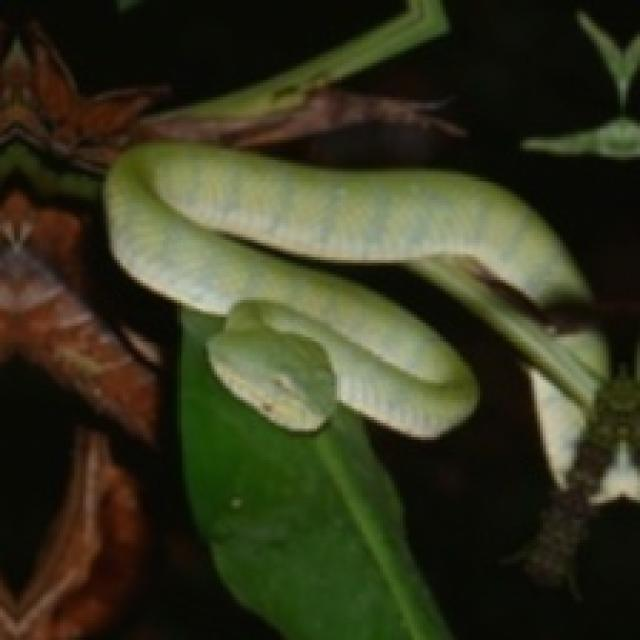north ph temple pitviper: (106, 143, 606, 637)
